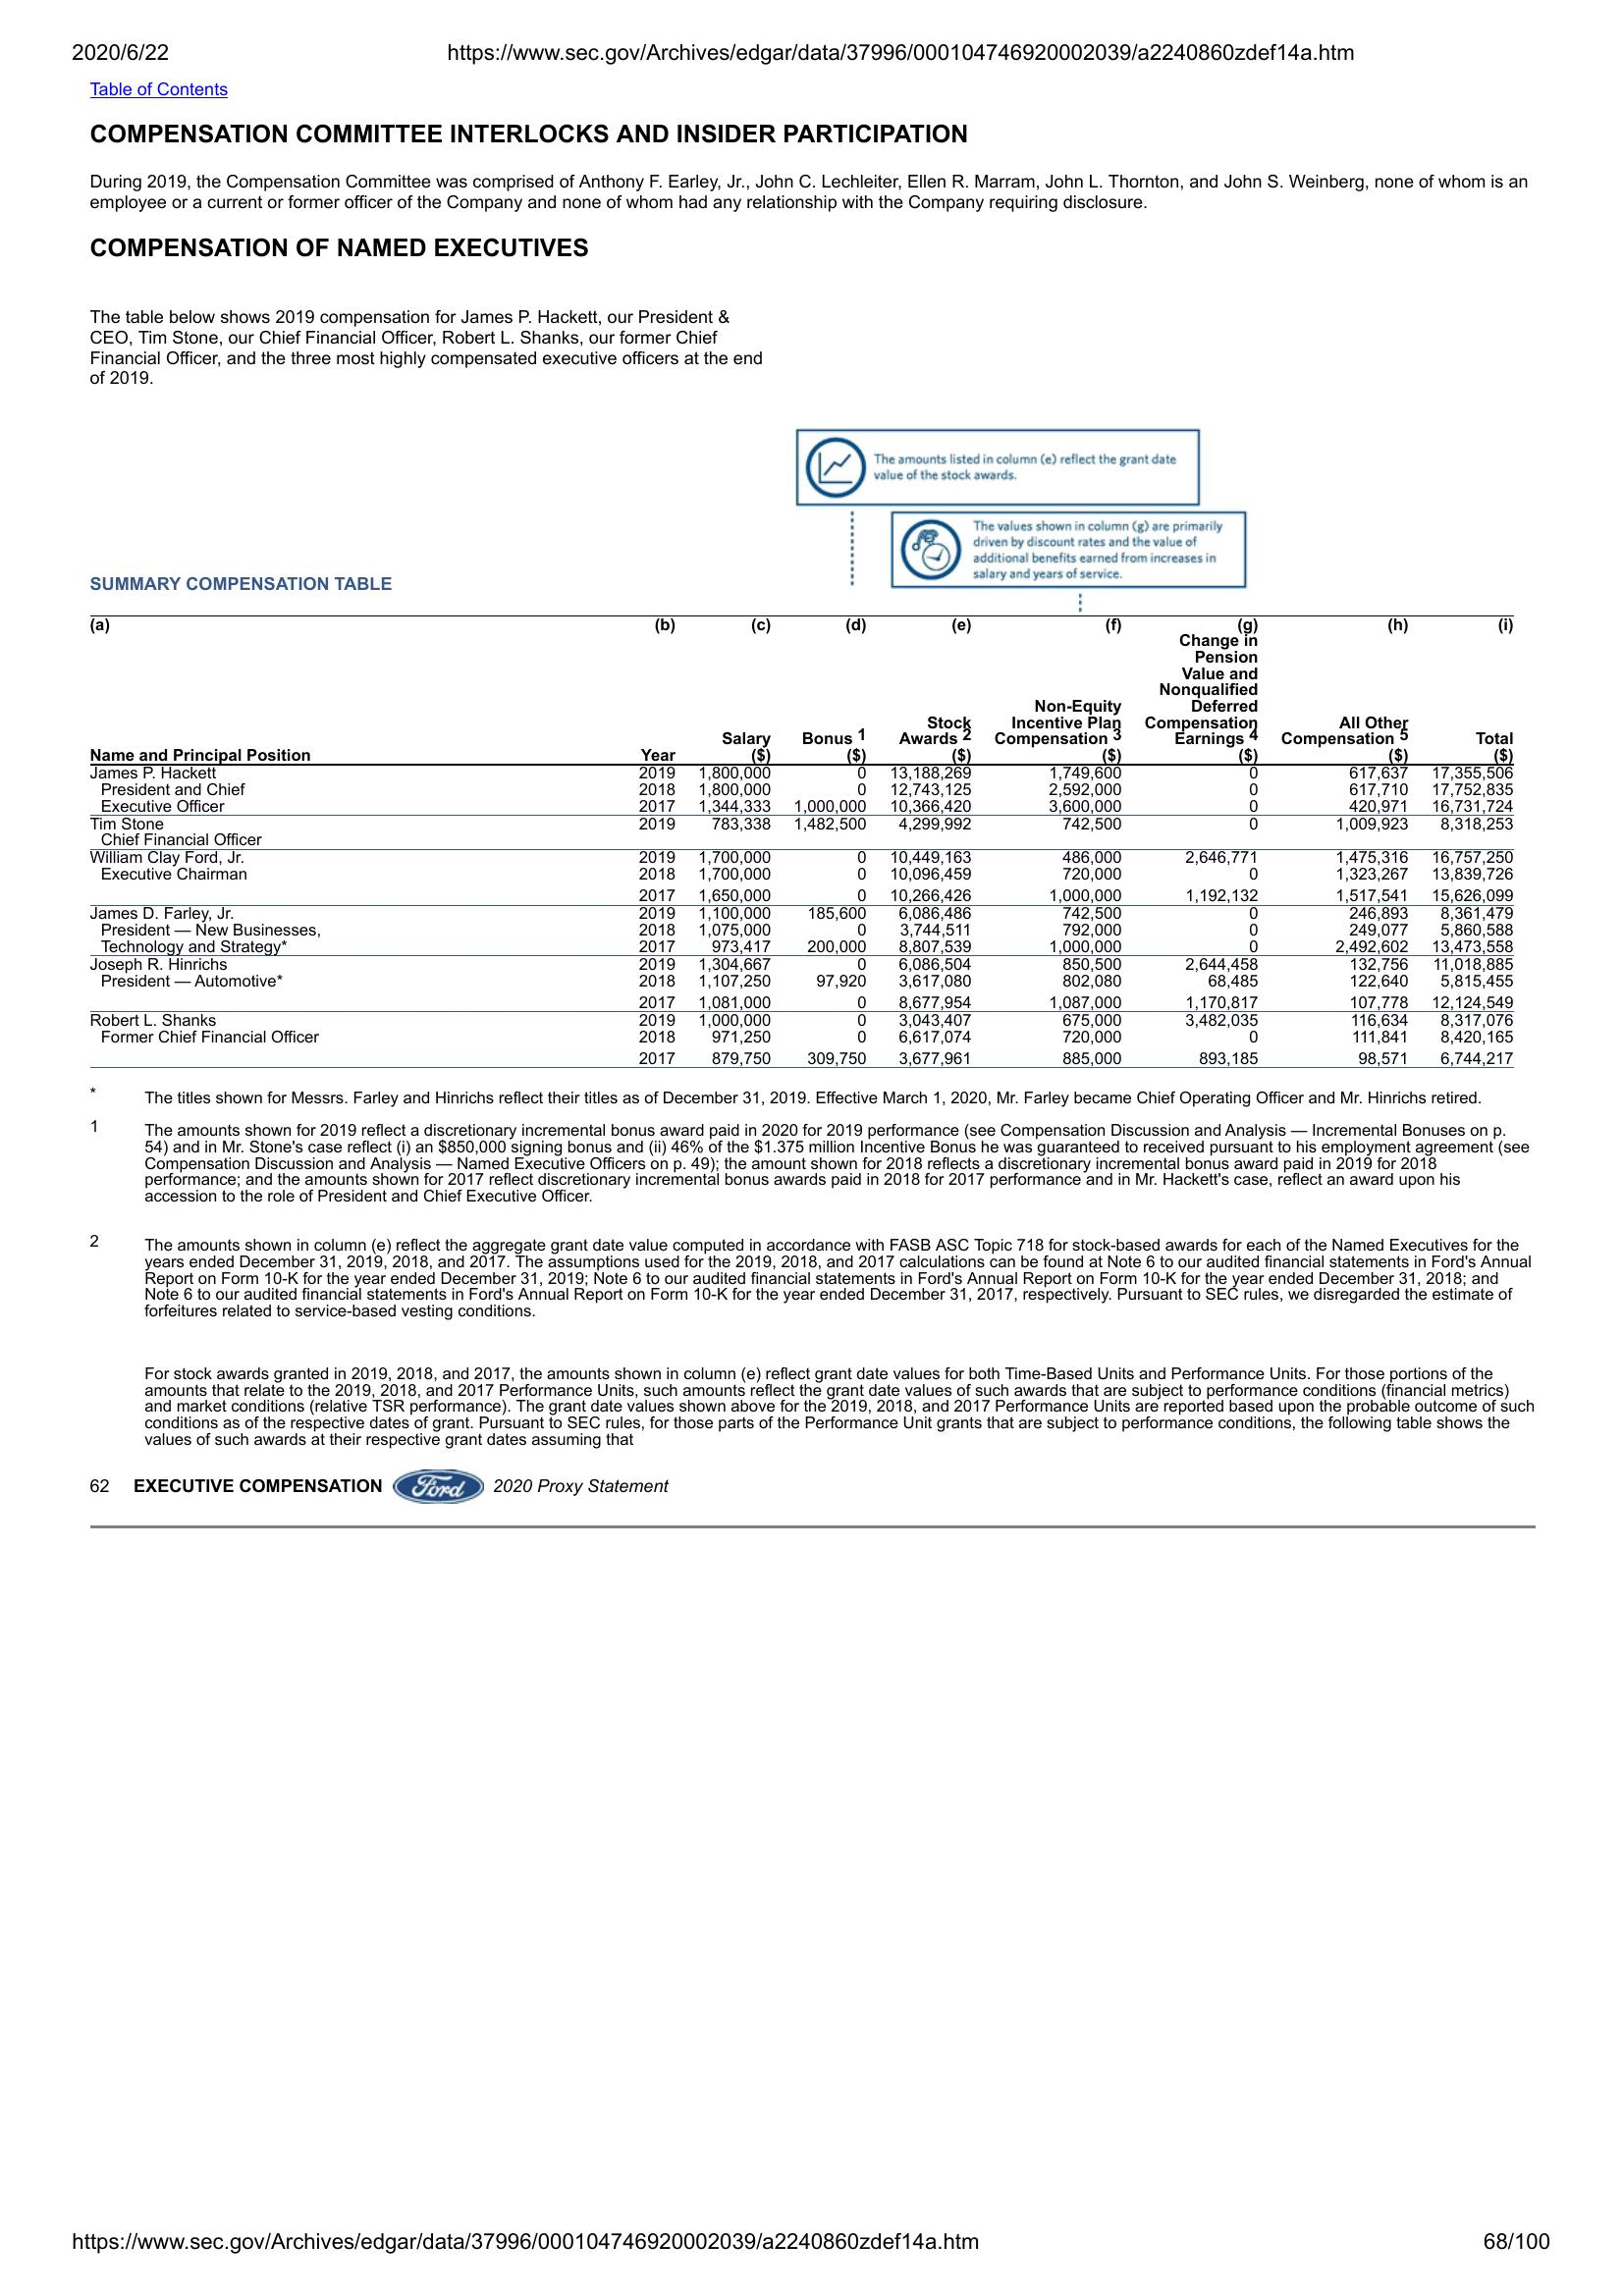table: (84, 607, 1519, 1076)
